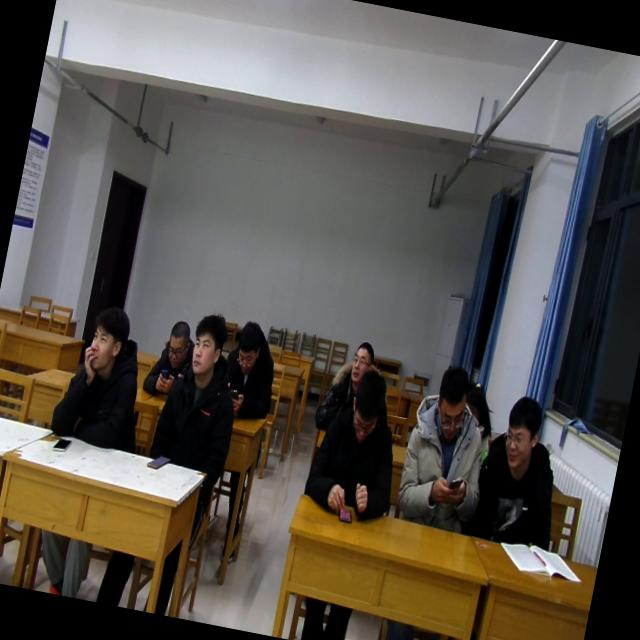bow: (215, 316, 286, 426), (140, 312, 203, 406)
down: (425, 362, 477, 446), (496, 391, 548, 474), (340, 363, 390, 449), (230, 312, 268, 373), (160, 312, 196, 368)
lookup: (80, 298, 136, 382), (184, 303, 232, 383), (340, 335, 378, 387)
sit: (393, 358, 502, 534), (147, 303, 256, 478), (302, 360, 416, 524), (466, 388, 577, 550), (46, 296, 158, 454), (311, 332, 387, 442)
